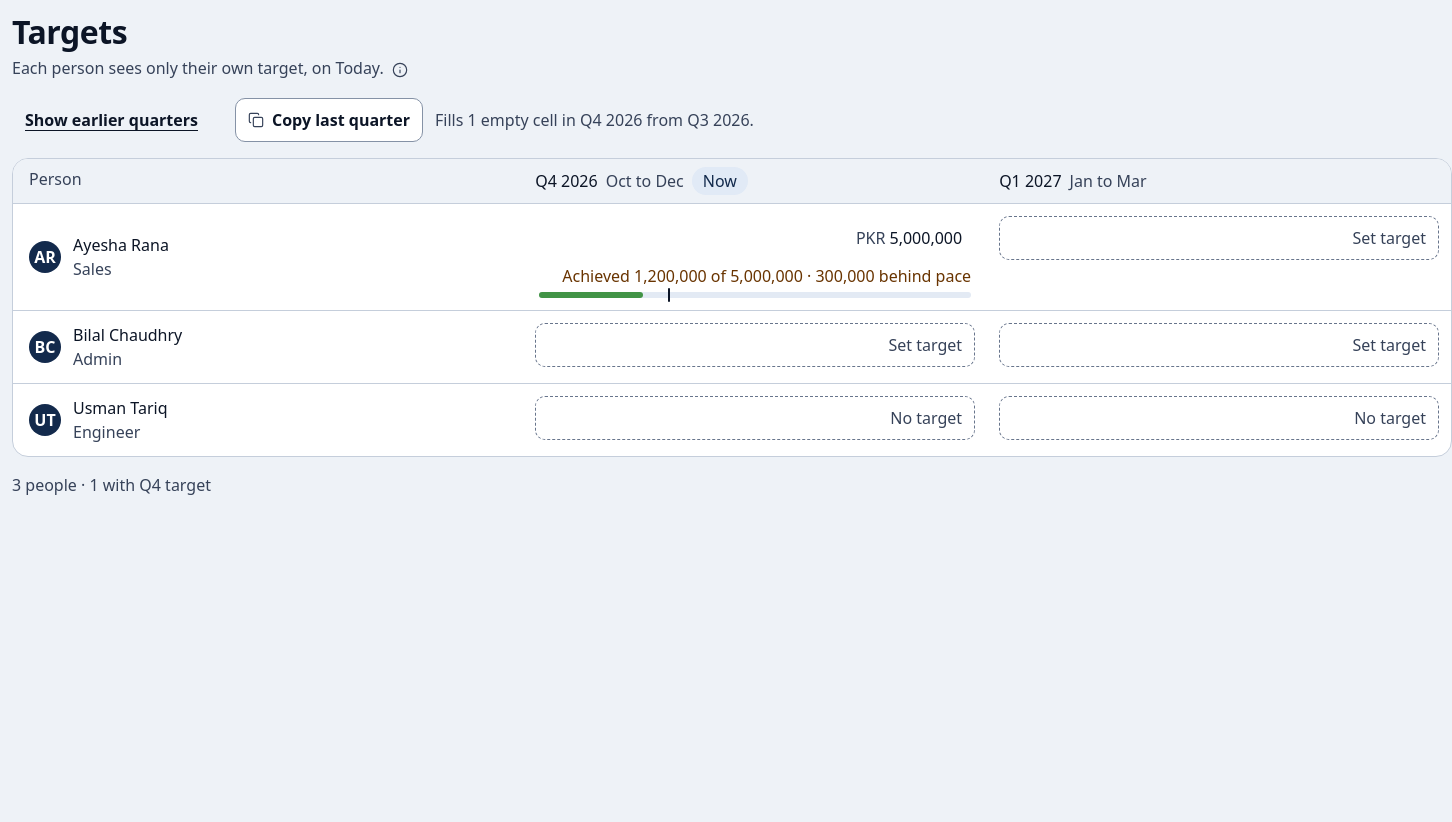
Scenario: Targets (M06) › 1 tap plus the amount: Enter saves it, grouped, with a confirmation
Expected: the text "Ayesha Rana" is shown, [73,233,169,257]
Click the 2nd button "Set target" at (925, 345), box [535,323,975,367]
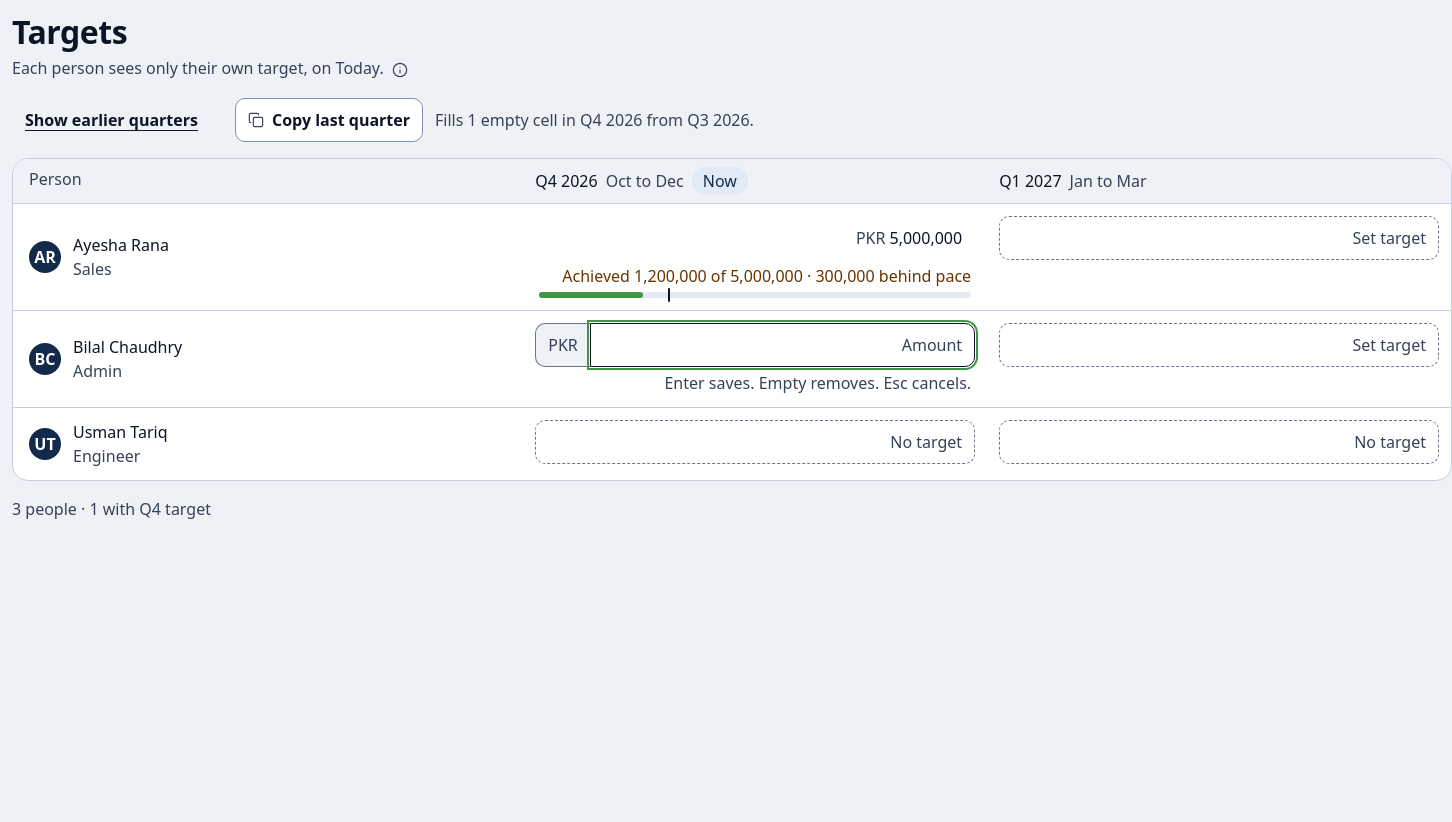
Type keys "7500000{Enter}"
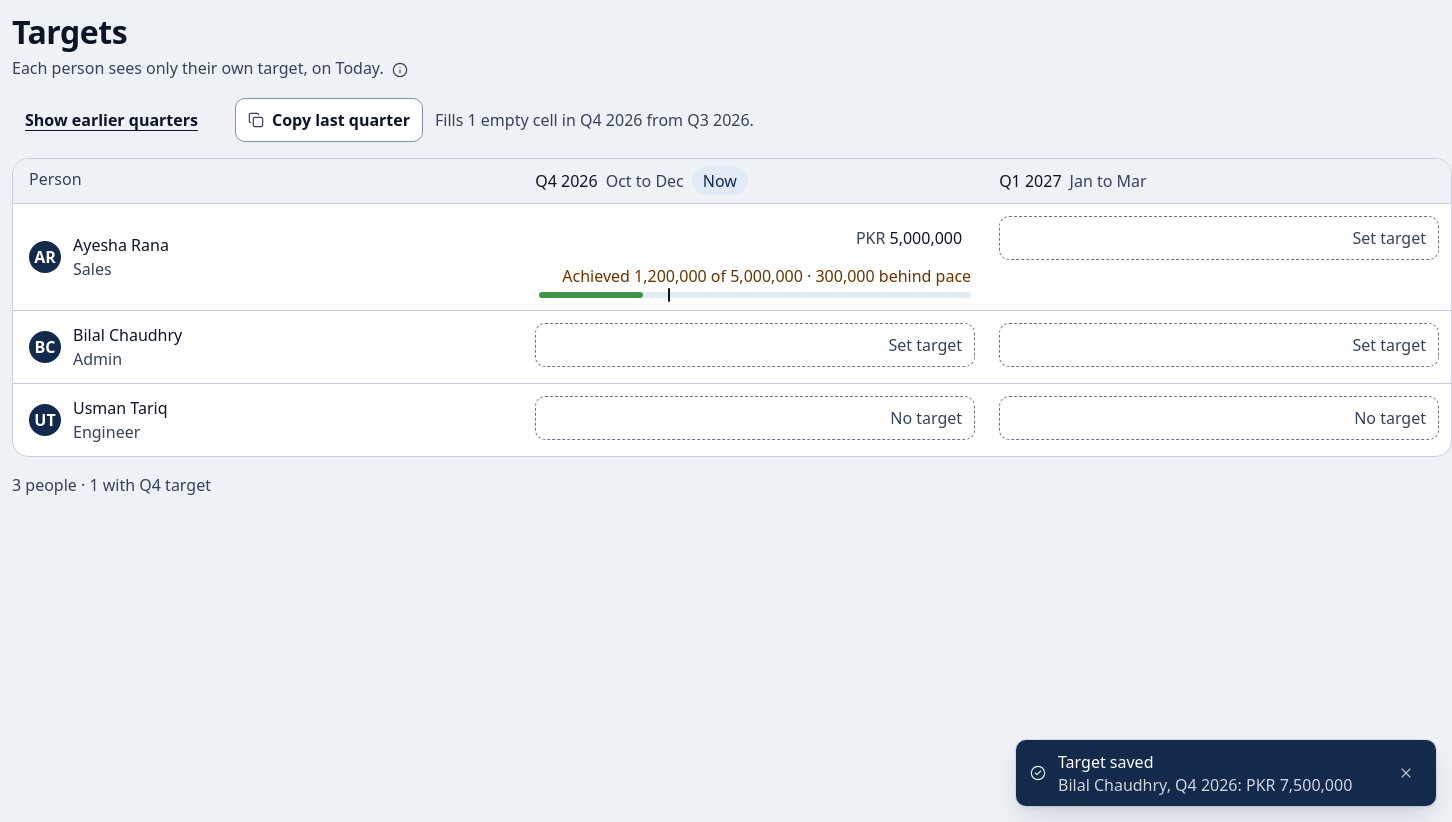
Now the text "Target saved" is shown, box [1058,751,1154,773]
Now the text "Bilal Chaudhry, Q4 2026: PKR 7,500,000" is shown, box [1058,774,1374,796]
